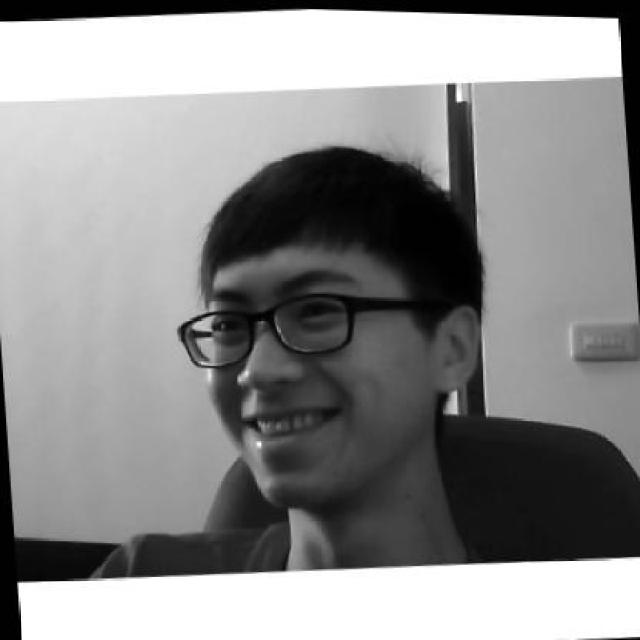attentif: (167, 131, 491, 517)
